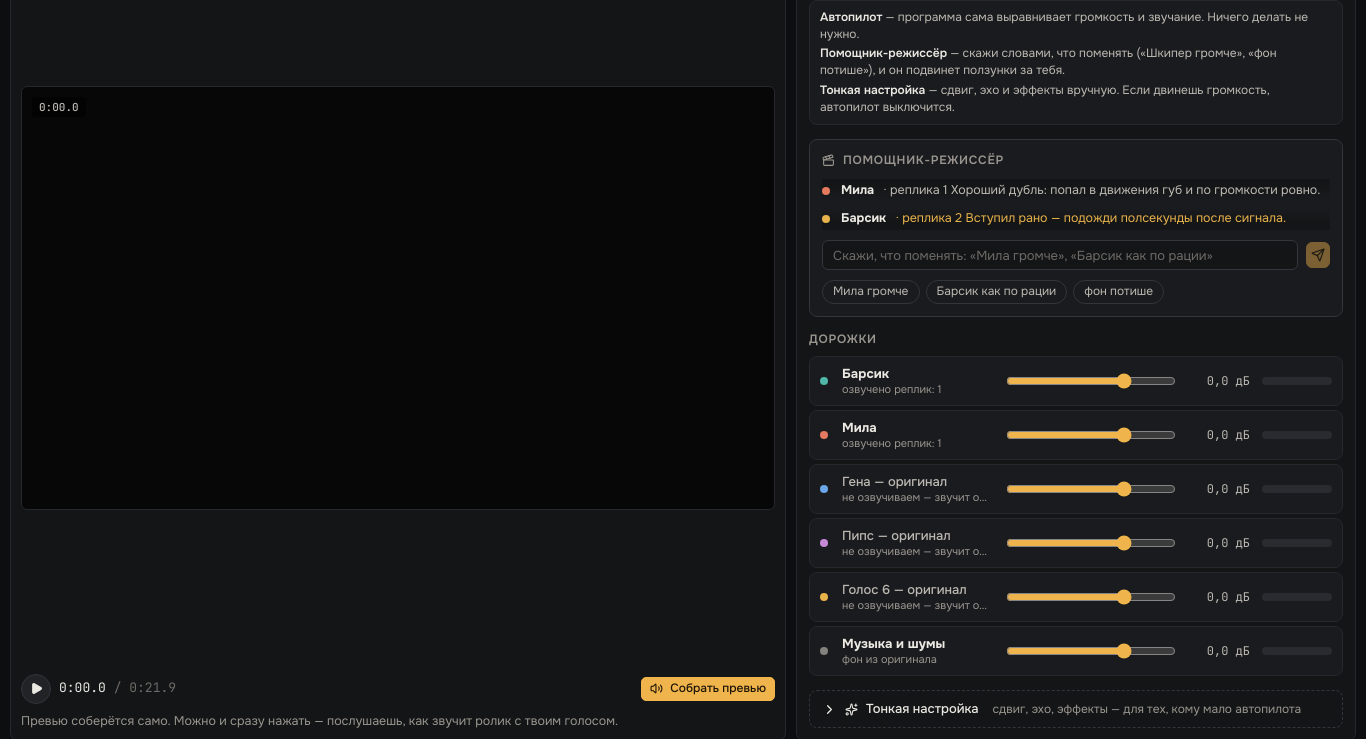
Test case: Сведение: автопилот и тонкая настройка › по умолчанию просто; «Тонкая настройка» раскрывает всё остальное
(page scrolled)
Expected: the element "Помощник-режиссёр" is shown, [809,139,1343,317]
Step 1. Click the button with test id "fine-toggle" → (1076, 709), box [809,690,1343,728]
(page scrolled)
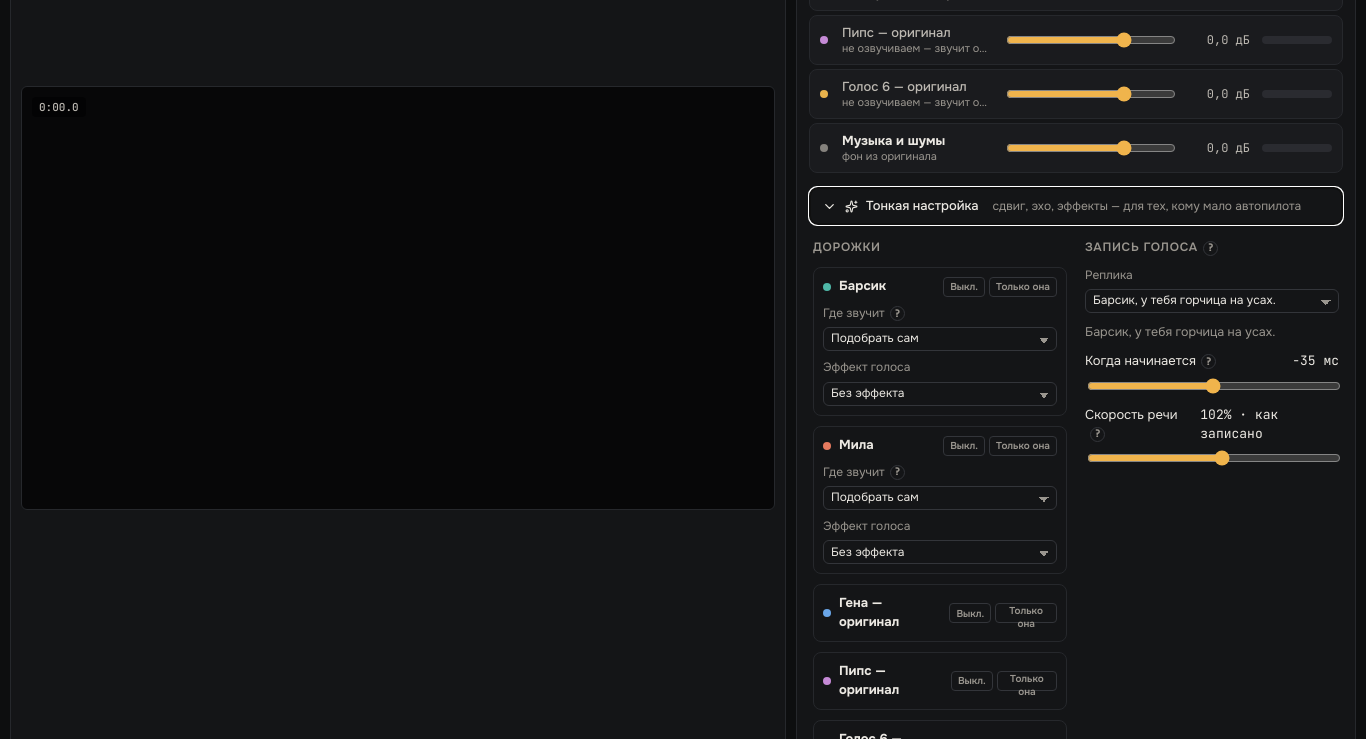
Expected: the text "Где звучит ?" is shown, [823,305,905,321]
Expected: the text "Когда начинается ?" is shown, [1085,352,1216,371]
